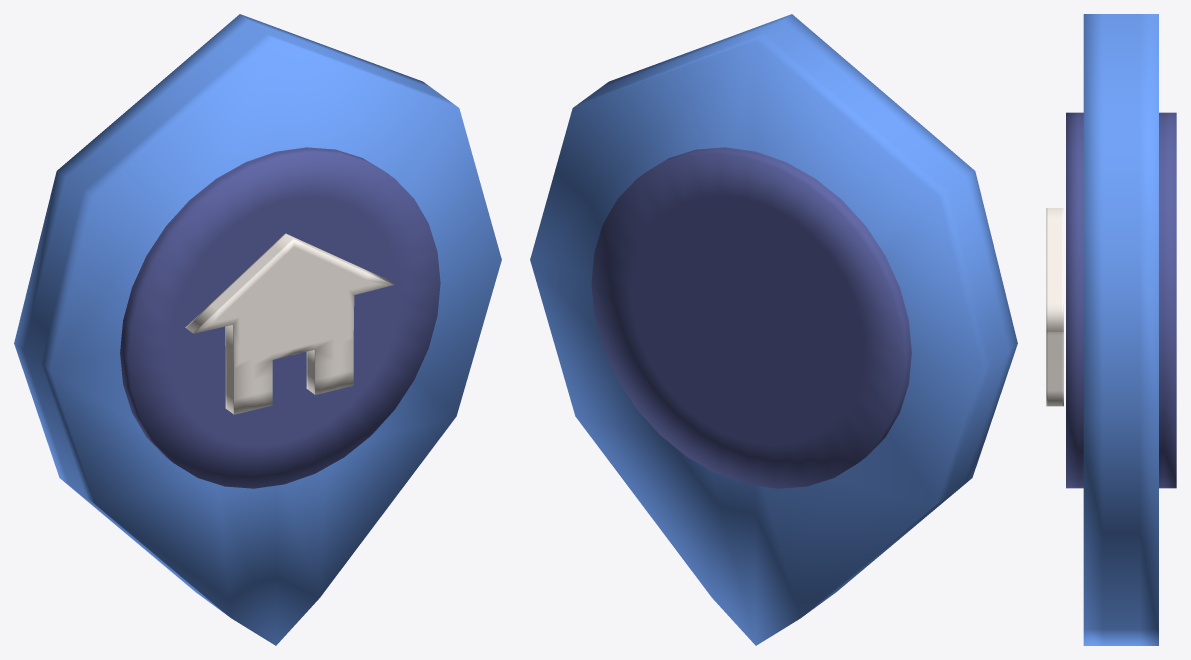
The model's file is flag.glb.
3 renders of one model, left to right at view 1: azimuth 30°, elevation 25°; view 2: azimuth 150°, elevation 25°; view 3: azimuth 270°, elevation 25°, orthographic. The views are drawn at different scales.
Visible parts, largest first — view 1: Cube, Cylinder, Cube.001; view 2: Cube, Cylinder; view 3: Cube, Cylinder, Cube.001.
Boxes of the visible parts, left/top/right/bottom form: Cube: left=14, top=14, right=501, bottom=645; Cylinder: left=120, top=147, right=440, bottom=488; Cube.001: left=185, top=233, right=393, bottom=414; Cube: left=530, top=14, right=1017, bottom=645; Cylinder: left=591, top=147, right=911, bottom=488; Cube: left=1083, top=14, right=1158, bottom=645; Cylinder: left=1066, top=112, right=1176, bottom=488; Cube.001: left=1046, top=208, right=1063, bottom=406.
Bounding box in the file's own units: 0.2109 × 0.2702 × 0.0506.
